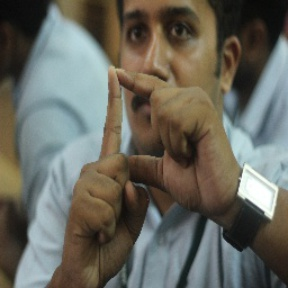D: (95, 62, 198, 195)
